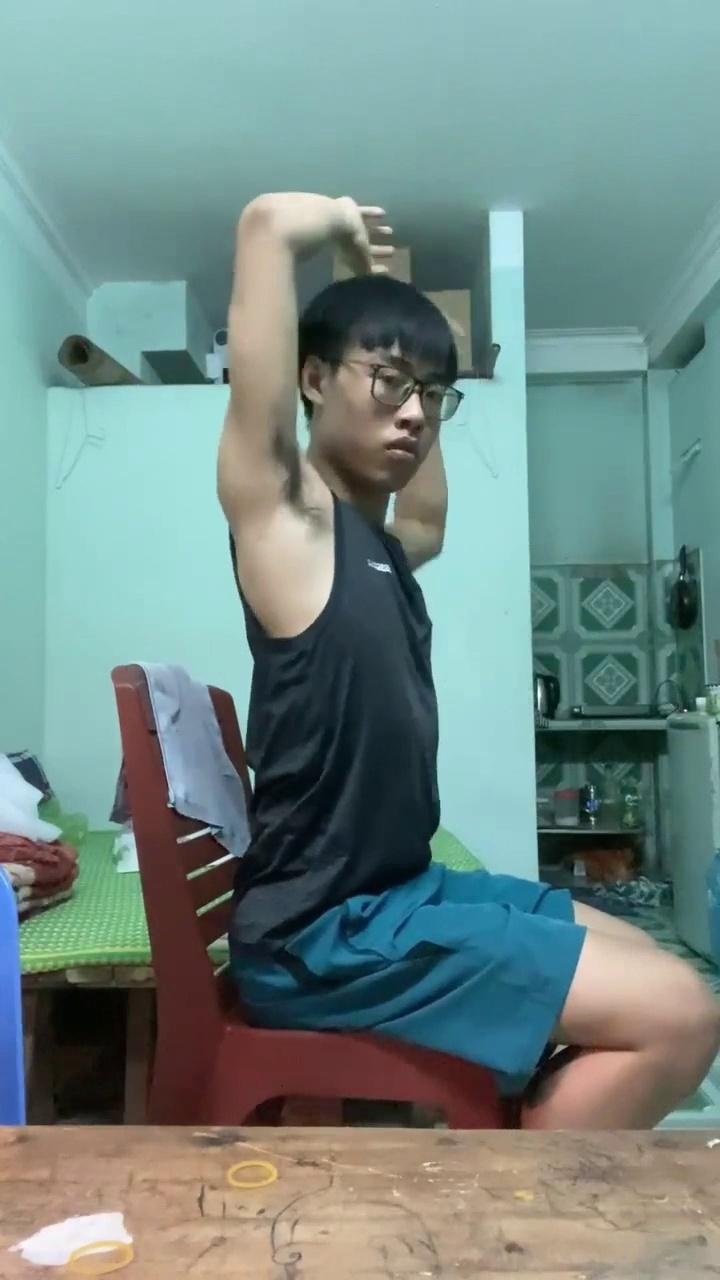GoodPosture: (217, 192, 719, 1128)
